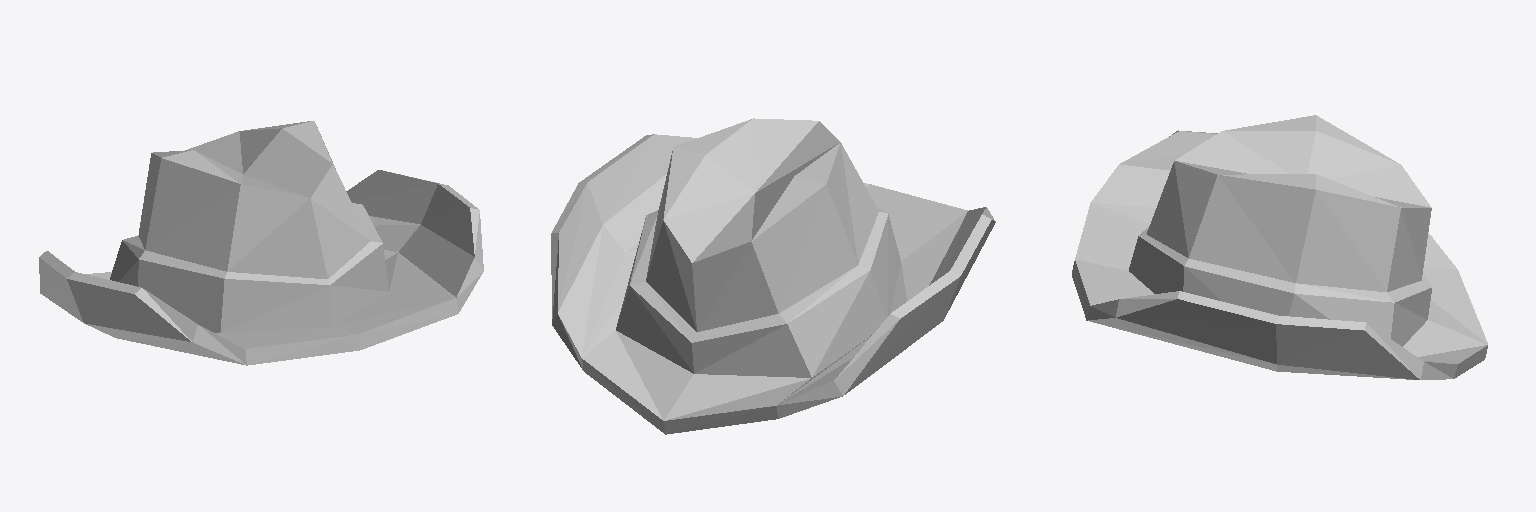
The model's file is SM_Chr_Attach_CowboyHat_02.obj.
3 renders of one model, left to right at view 1: azimuth 30°, elevation 25°; view 2: azimuth 150°, elevation 25°; view 3: azimuth 270°, elevation 25°, orthographic.
Size of the model in its own units: 50.85 by 26.36 by 48.07.